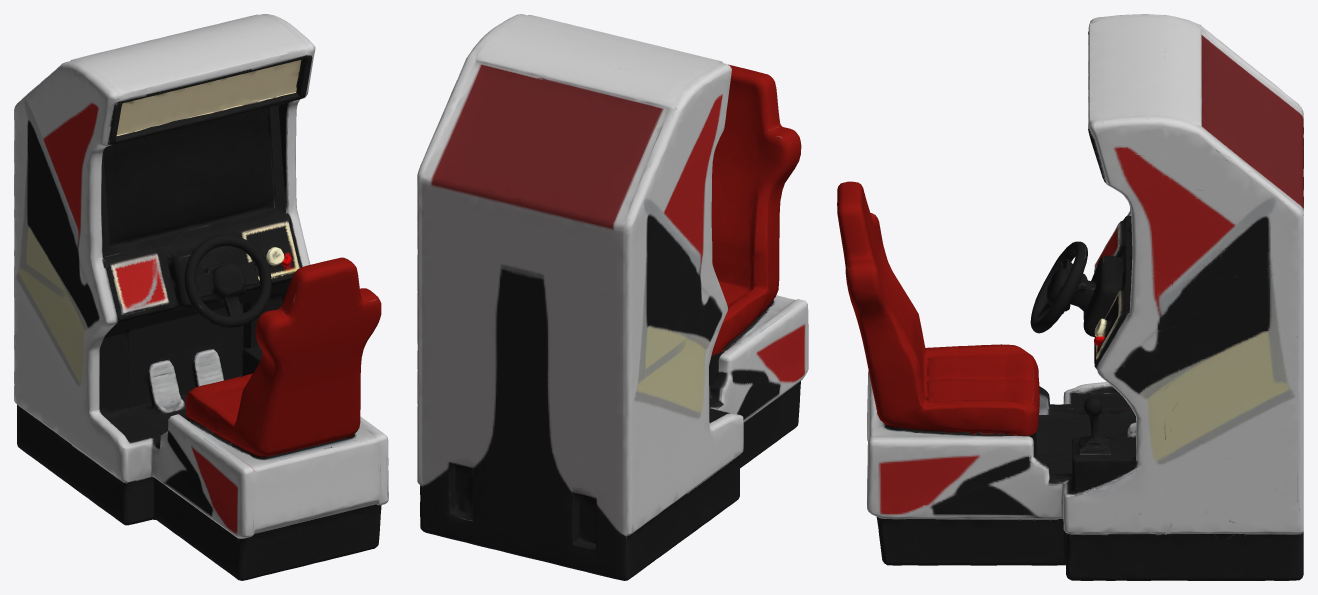
File: 14_arcade_14_racer_red.glb
3 views of the same model, side by side, from view 1: azimuth 30°, elevation 25°; view 2: azimuth 150°, elevation 25°; view 3: azimuth 270°, elevation 25° (orthographic). The views are drawn at different scales.
Visible parts, largest first — view 1: world; view 2: world; view 3: world.
Part boxes in pixels (x1,y1,x2,y2): world: [14, 14, 388, 580]; world: [417, 14, 808, 580]; world: [837, 14, 1303, 580].
Bounding box in the file's own units: 0.5073 × 1 × 0.9143.
1 material, 1 textured.
